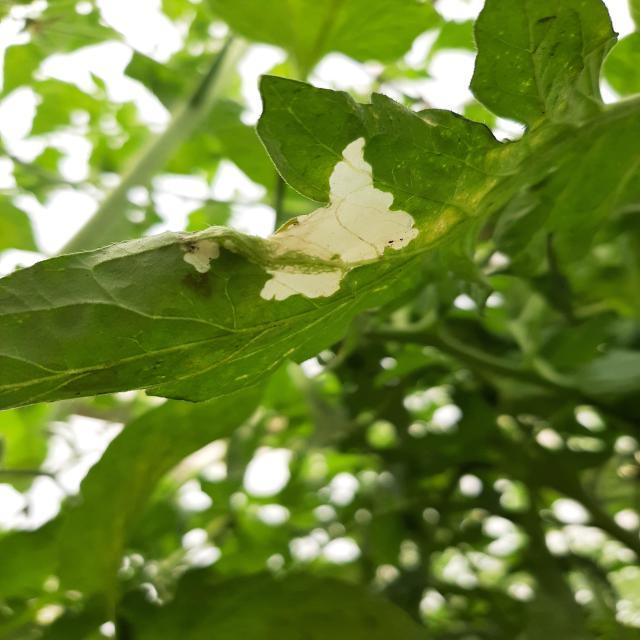Tuta absoluta: (220, 135, 431, 335), (177, 228, 225, 277)
